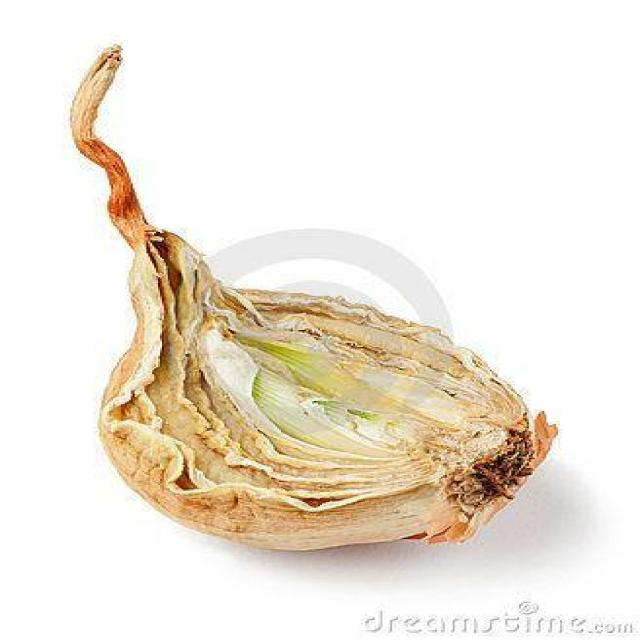Onion: (60, 45, 562, 552)
